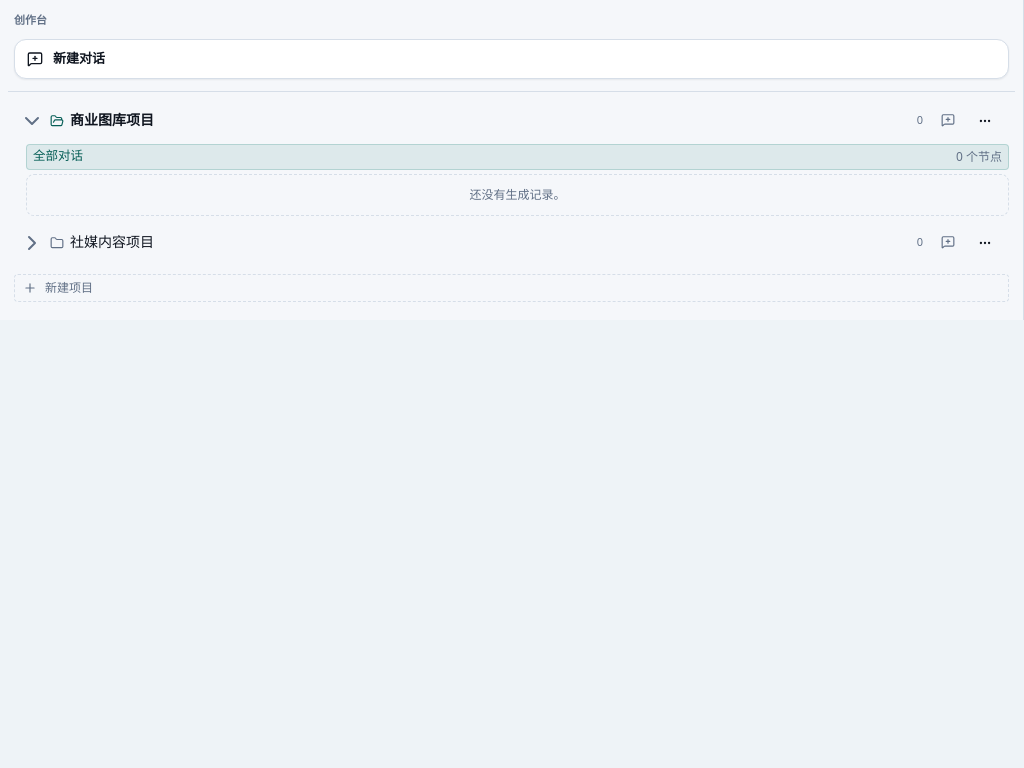
Scenario: ProjectSidebar CRUD UI › creates a project via the new-project dialog
Click the button with test id "new-project-button": (69, 287) [14,274,1009,302]
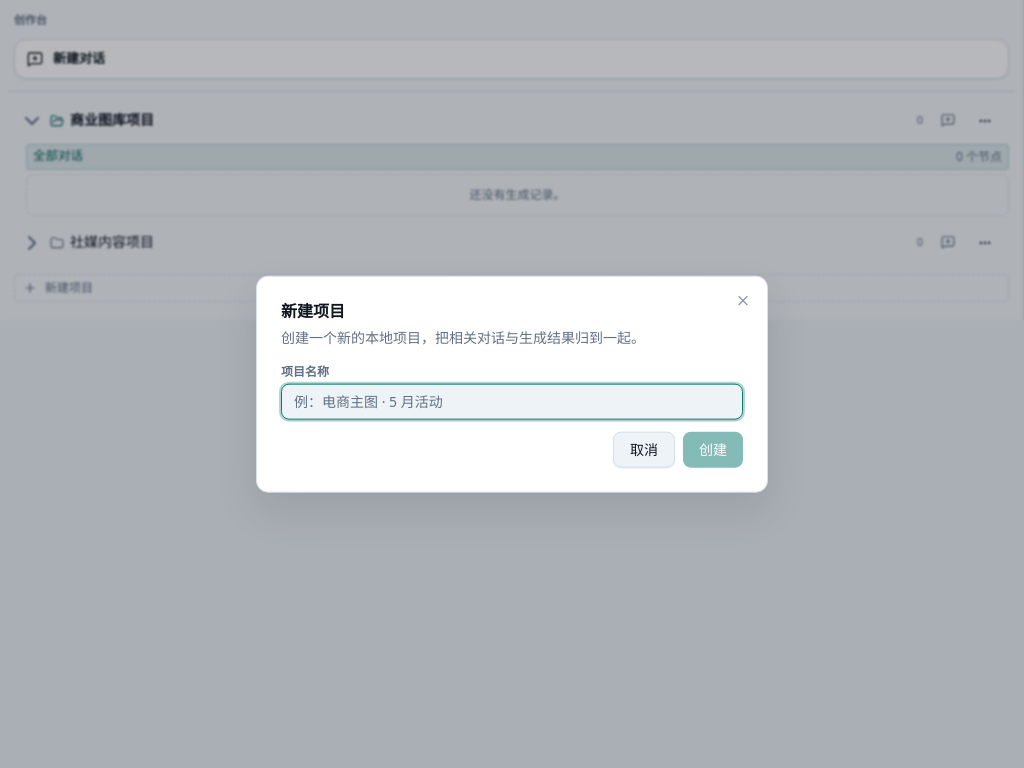
In the field with test id "new-project-title-input": (512, 401) [281,383,743,419], type "活动 5 月"
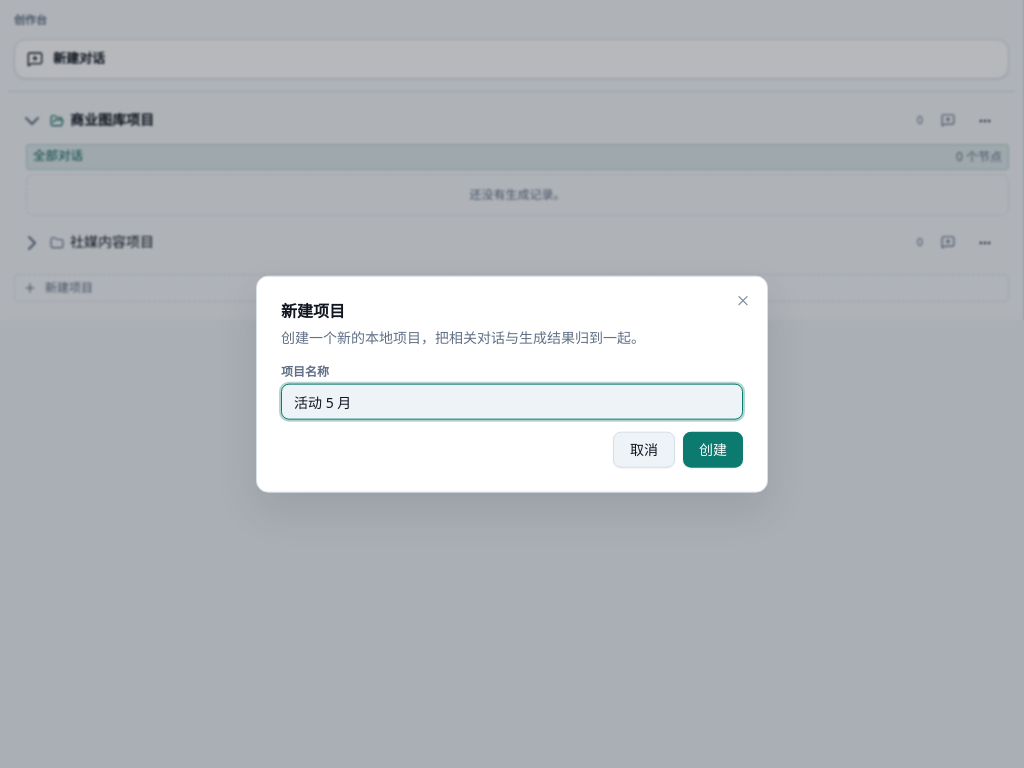
Click the button with test id "new-project-submit": (713, 449) [683,431,743,467]
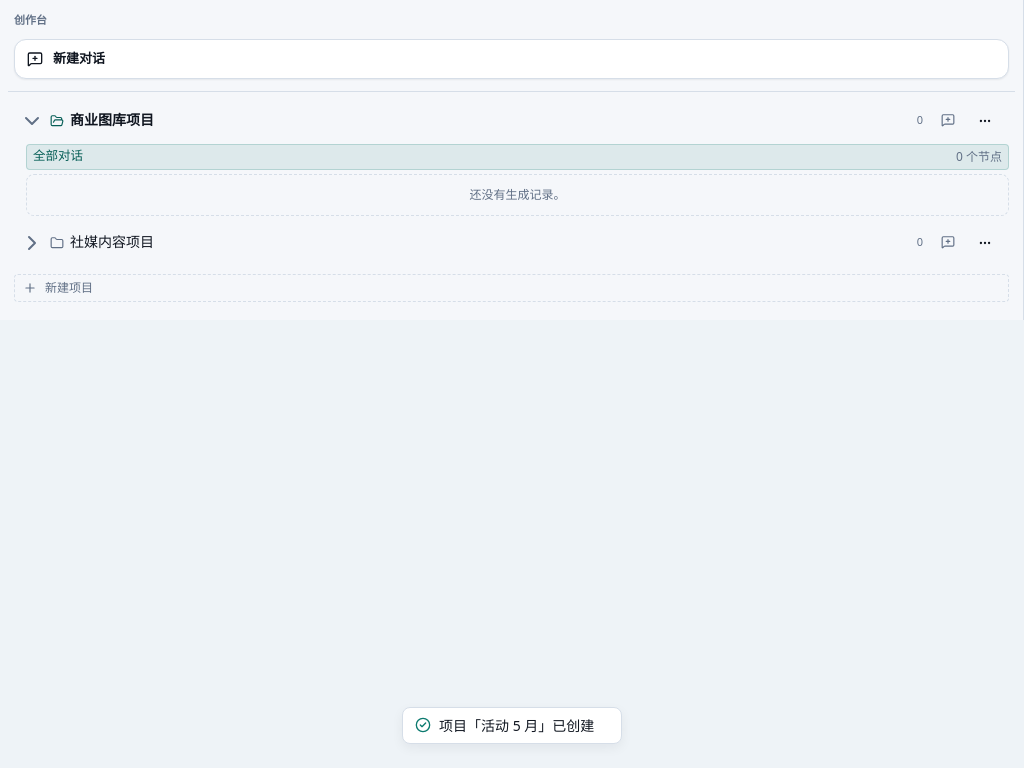
expect the dialog with test id "new-project-dialog" is gone: met
